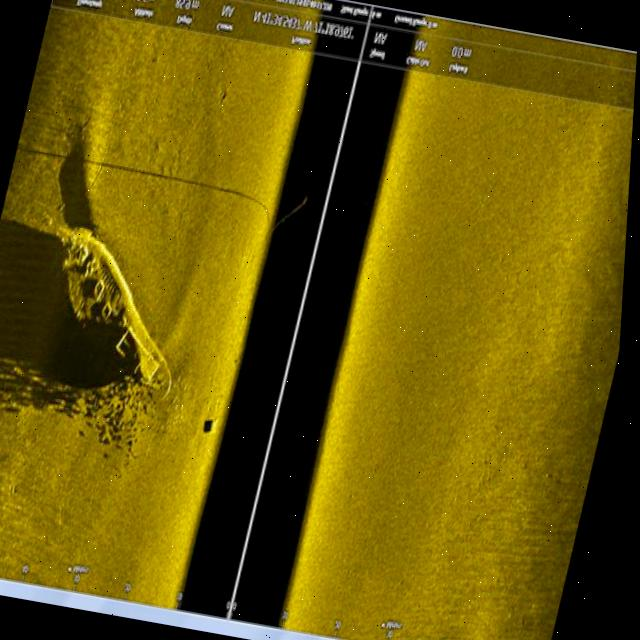shipwreck: (24, 222, 206, 394)
